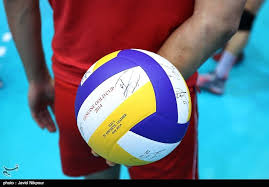ball: (73, 48, 192, 166)
